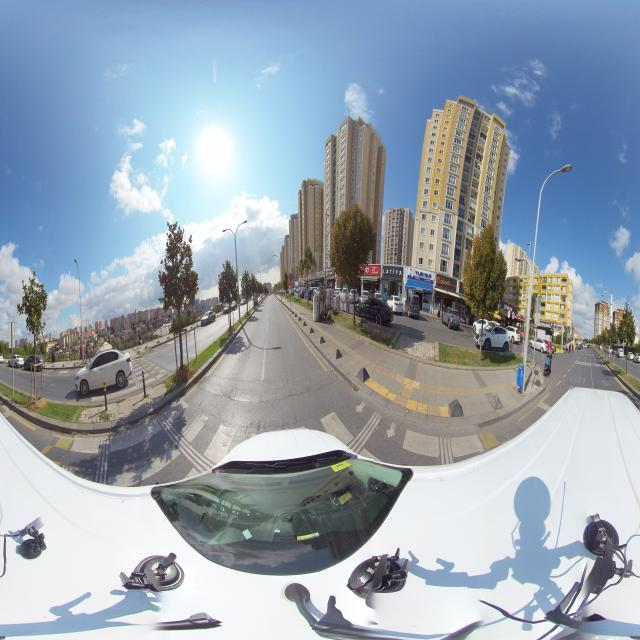SignStore: (409, 268, 433, 283), (437, 275, 457, 291), (383, 267, 403, 278), (504, 302, 513, 312), (311, 273, 320, 279), (327, 270, 335, 276), (321, 272, 325, 278), (295, 282, 297, 286), (301, 279, 303, 282)
